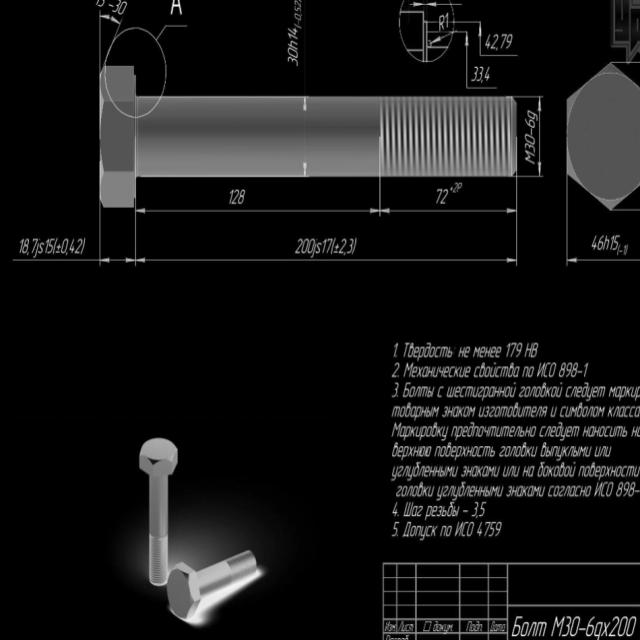marking_line: (136, 258, 517, 266), (138, 205, 379, 216), (381, 204, 514, 216), (570, 255, 640, 269), (536, 98, 542, 178), (102, 256, 134, 263)
numeric: (485, 32, 518, 51), (286, 27, 301, 65), (62, 237, 84, 259), (228, 184, 249, 206), (16, 236, 36, 259), (472, 62, 492, 84), (102, 0, 127, 15), (294, 239, 316, 256), (439, 14, 453, 34), (434, 187, 448, 204), (45, 237, 54, 259)
